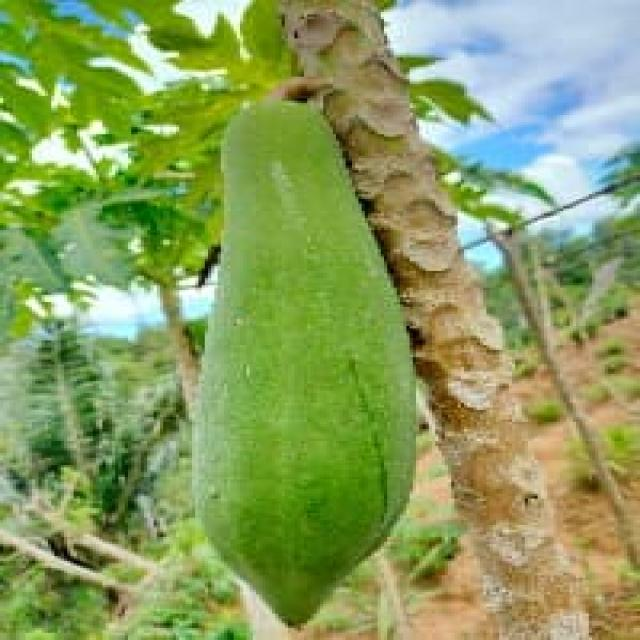Pepaya: (186, 91, 419, 626)
